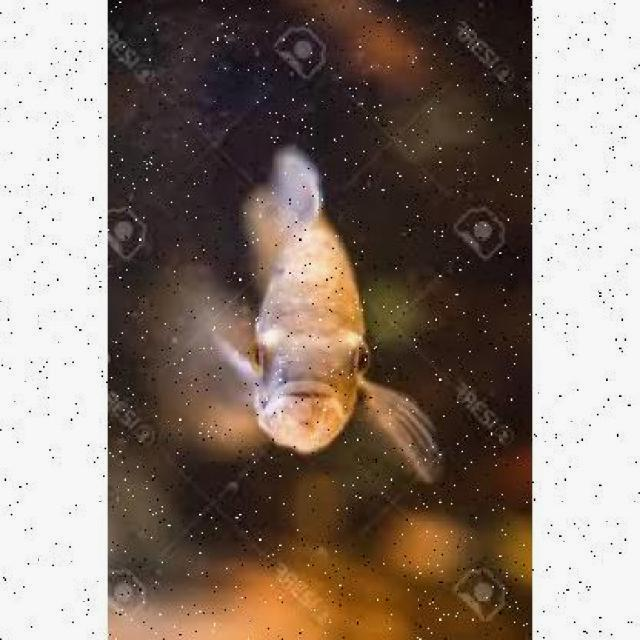gurame: (226, 147, 442, 490)
